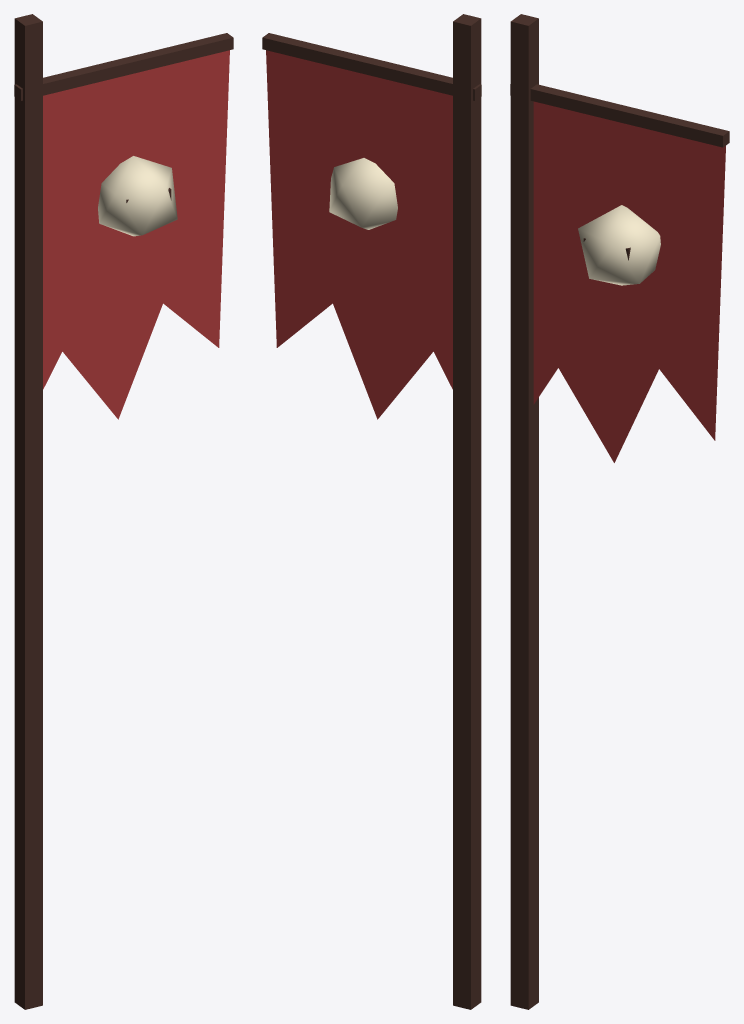
The model's file is goblin_banner.glb.
The picture shows the model from 3 angles, left to right: view 1: azimuth 30°, elevation 25°; view 2: azimuth 150°, elevation 25°; view 3: azimuth 330°, elevation 25°; orthographic projection.
Parts seen in each view (by area): view 1: pole; view 2: pole; view 3: pole.
Part boxes in pixels (bbox=[...]): pole: bbox=[14, 14, 233, 1009]; pole: bbox=[262, 14, 481, 1009]; pole: bbox=[510, 14, 729, 1009].
Bounding box in the file's own units: 0.95 × 4.2 × 0.3142.
